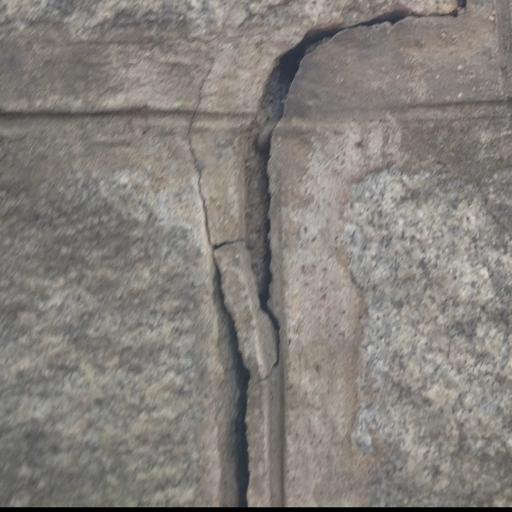major_crack: (187, 0, 477, 509)
